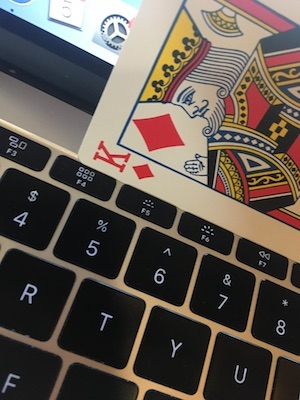KingOfDiamonds: (75, 1, 300, 264)
